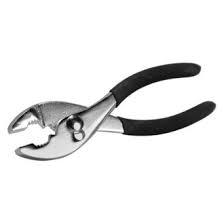pliers: (7, 61, 215, 161)
